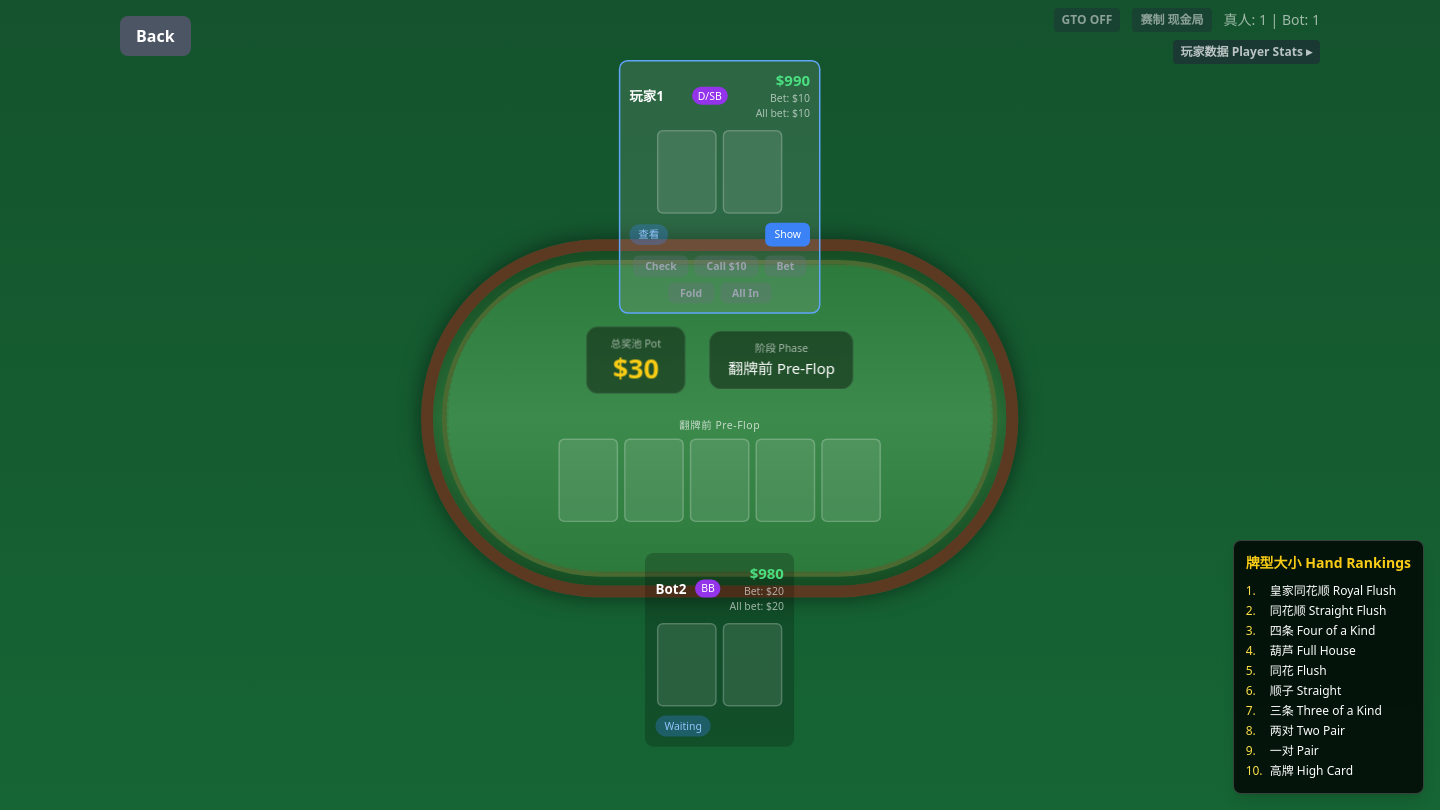
Test: GameBoard 右上角「玩家数据」浮层 › 开启性格时展示按分配类型聚合的行，且数据来自长期库的开手快照
What coordinates should you click on to do the following:
click the button "玩家数据 Player Stats ▸"
I would click on:
 (1246, 52)
Its box is [1172,40,1320,64].
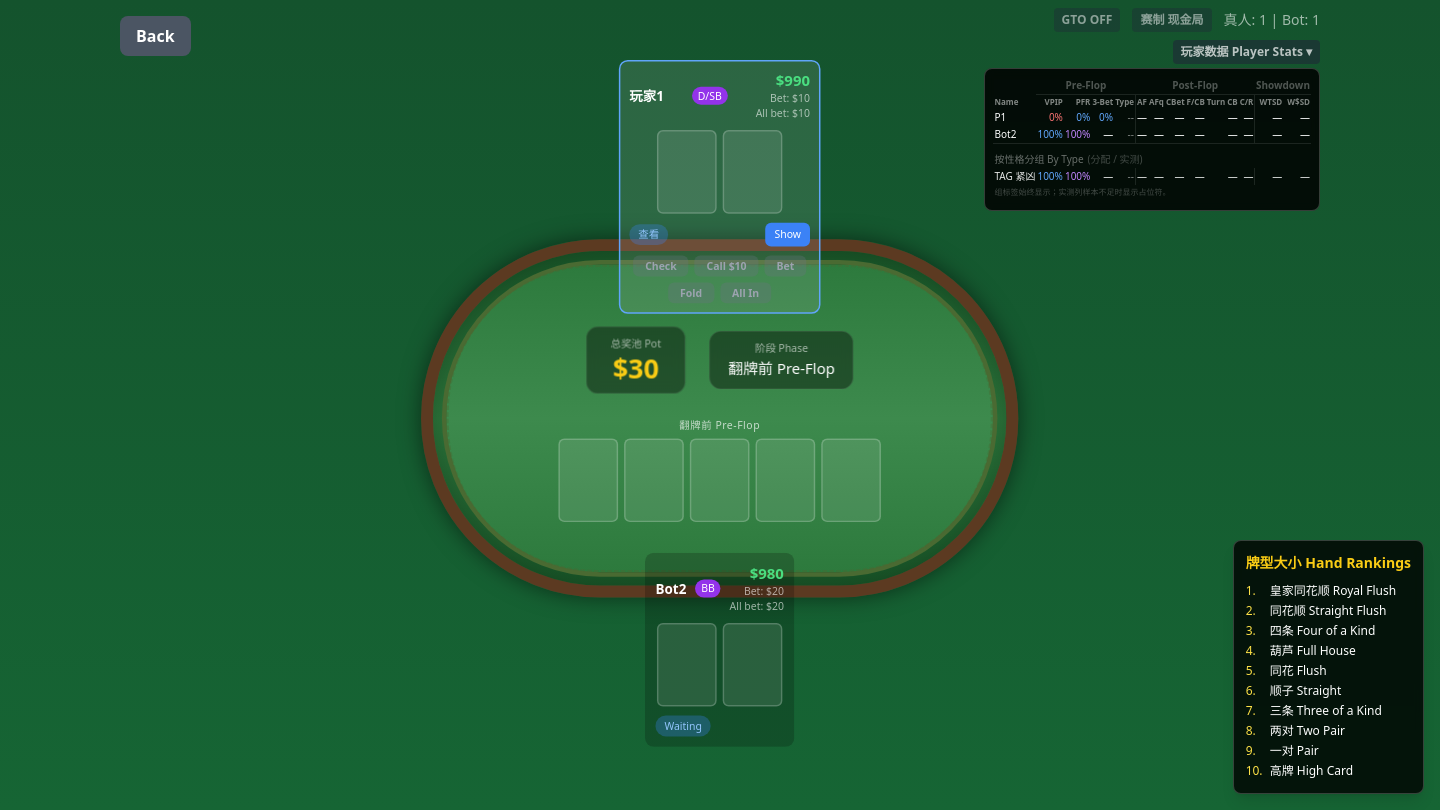
Expected: the text "按性格分组 By Type" is shown, [994,152,1084,166]
Expected: the text "TAG 紧凶" is shown, [994,169,1035,183]
Expected: the text "Bot2" is shown, [994,126,1036,144]
